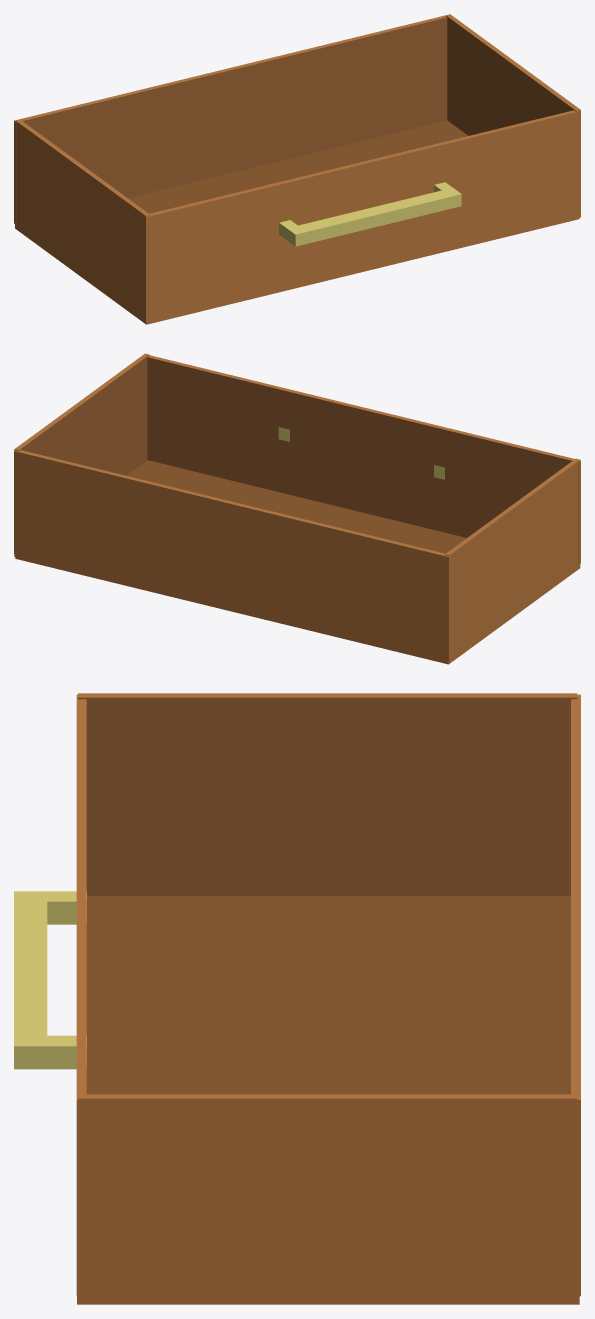
The model's file is large_drawer.obj.
3 renders of one model, top to bottom at view 1: azimuth 30°, elevation 25°; view 2: azimuth 150°, elevation 25°; view 3: azimuth 270°, elevation 25°, orthographic. The views are drawn at different scales.
Parts seen in each view (by area): view 1: pasted__polySurface26 group; view 2: pasted__polySurface26 group; view 3: pasted__polySurface26 group.
Part boxes in pixels (x1,y1,x2,y2): pasted__polySurface26 group: [14, 14, 580, 324]; pasted__polySurface26 group: [14, 353, 580, 664]; pasted__polySurface26 group: [14, 693, 580, 1304].
Bounding box in the file's own units: 0.9449 × 0.2254 × 0.558.
4 materials, 4 textured.
